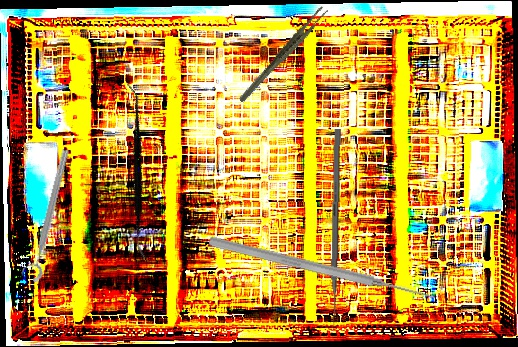Fixation Ring: (18, 146, 74, 284)
Pusher: (207, 233, 439, 306), (330, 128, 341, 333)
Spatula Surgical: (56, 83, 216, 260)
Tissue Forceps: (224, 4, 342, 104)
